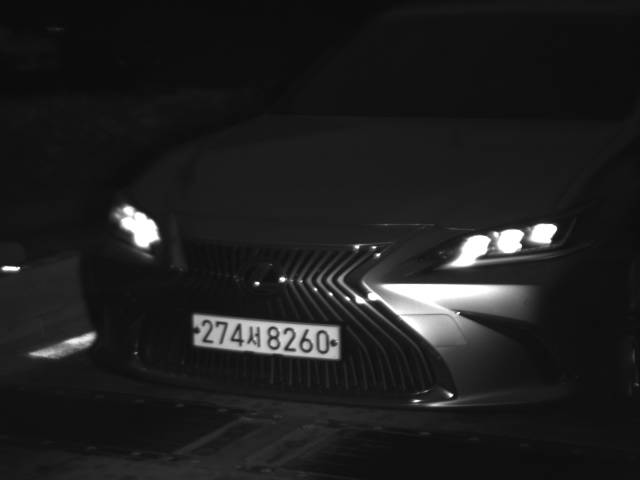car: (79, 45, 637, 415)
plate: (189, 312, 342, 359)
